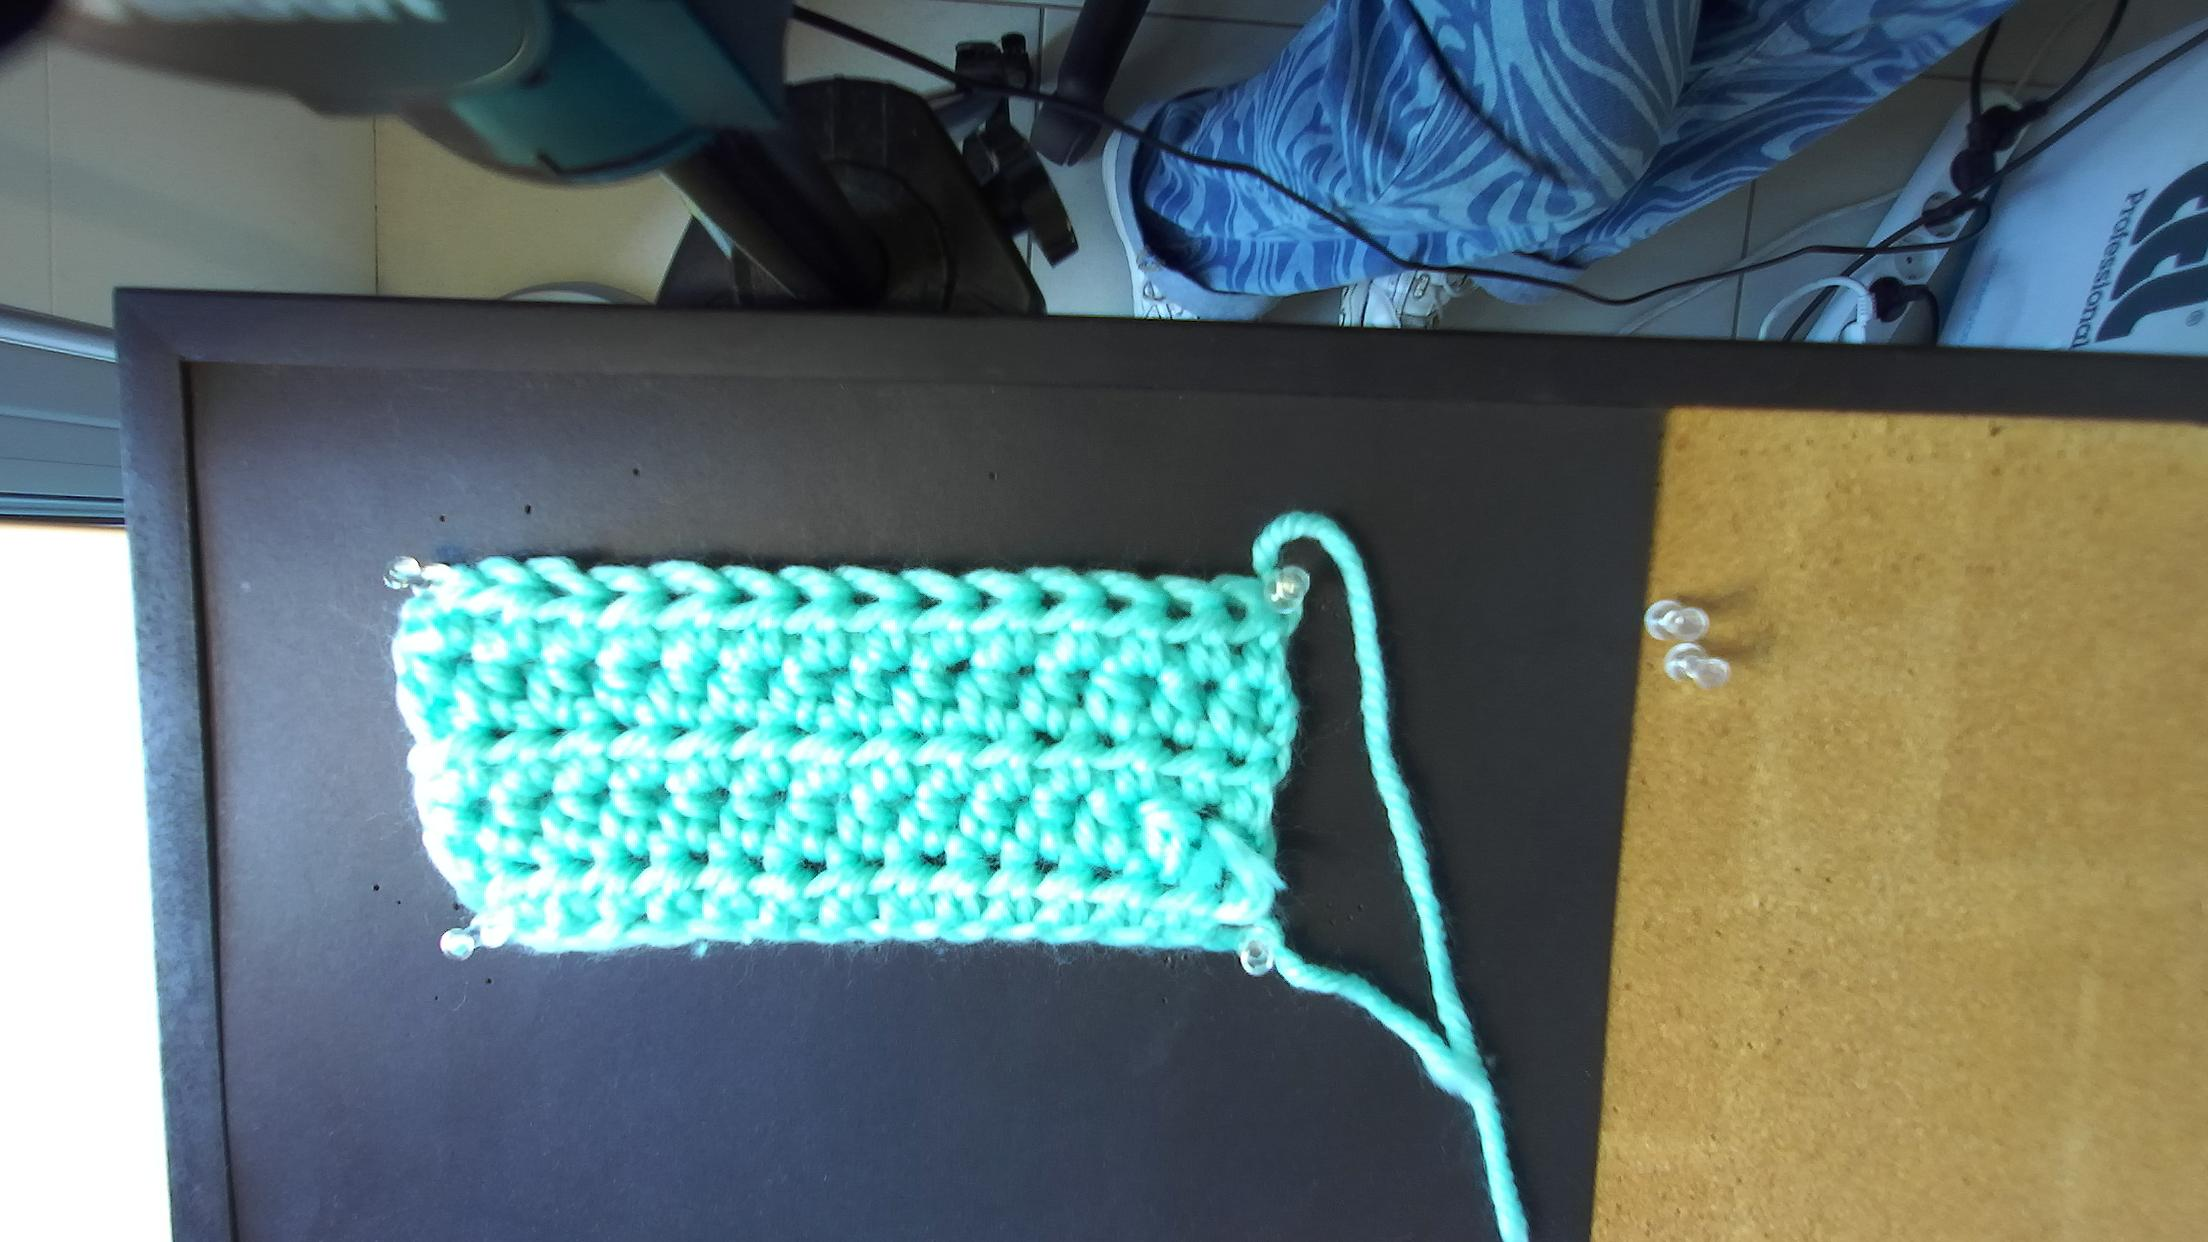hole: (531, 573, 572, 604), (657, 579, 698, 607), (716, 582, 758, 607), (1156, 597, 1192, 625), (964, 588, 1002, 613), (1093, 596, 1131, 620), (591, 584, 626, 608), (846, 588, 880, 613), (908, 593, 943, 614), (786, 585, 813, 610), (1224, 599, 1247, 628), (1033, 593, 1066, 611), (473, 575, 502, 588)
swatch: (387, 558, 1300, 958)
